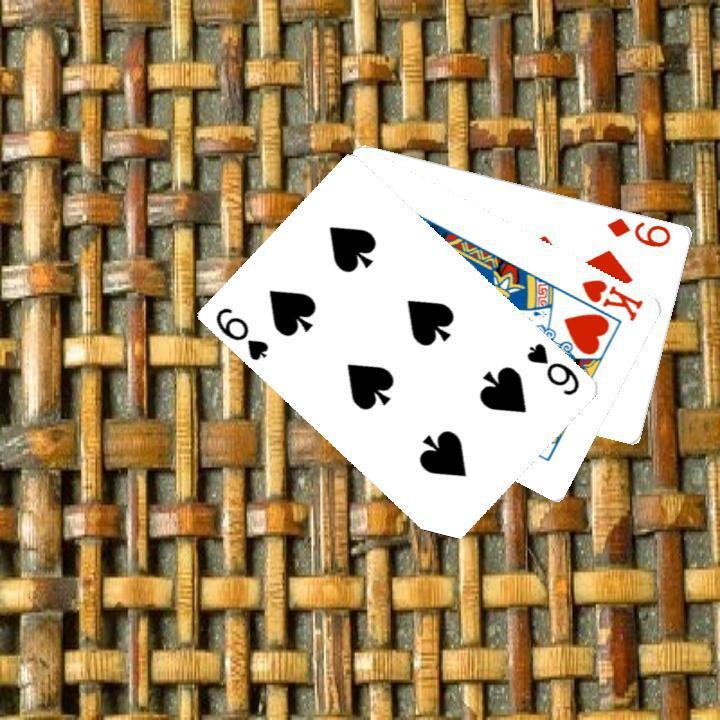6: (211, 303, 272, 363), (523, 338, 582, 398)
9: (603, 213, 674, 249)
K: (577, 274, 646, 323)
